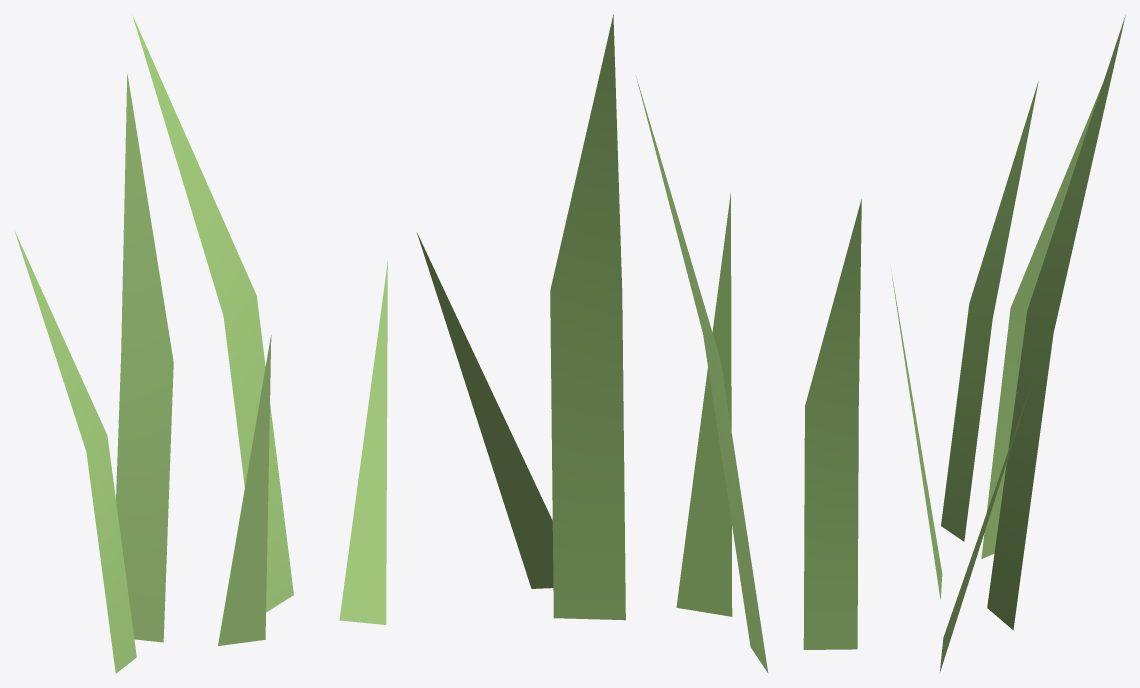
The model's file is Grass_b_OneS_03.fbx.
The picture shows the model from 3 angles, left to right: view 1: azimuth 30°, elevation 25°; view 2: azimuth 150°, elevation 25°; view 3: azimuth 270°, elevation 25°; orthographic projection. The views are drawn at different scales.
Visible parts, largest first — view 1: Grass_b_OneS_03; view 2: Grass_b_OneS_03; view 3: Grass_b_OneS_03.
Part boxes in pixels (left/top/right/bottom): Grass_b_OneS_03: left=15, top=15, right=387, bottom=673; Grass_b_OneS_03: left=416, top=14, right=861, bottom=673; Grass_b_OneS_03: left=890, top=15, right=1125, bottom=673.
Size of the model in its own units: 31.87 by 47.82 by 17.58.
